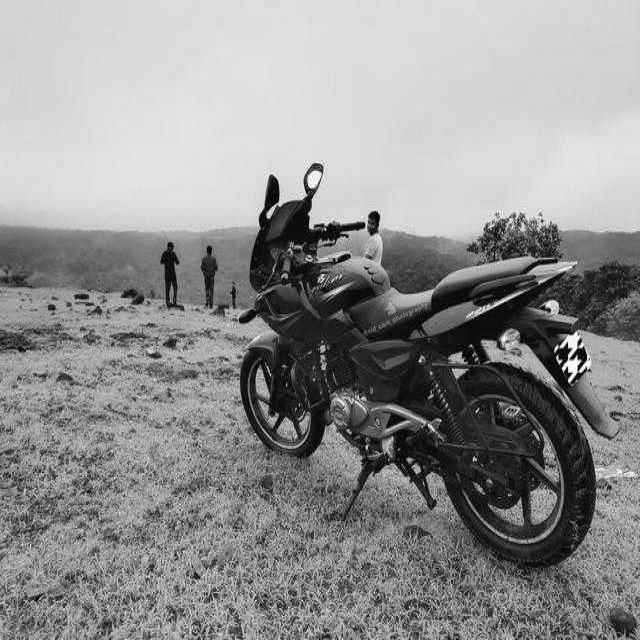Motorcycle: (239, 164, 619, 566)
